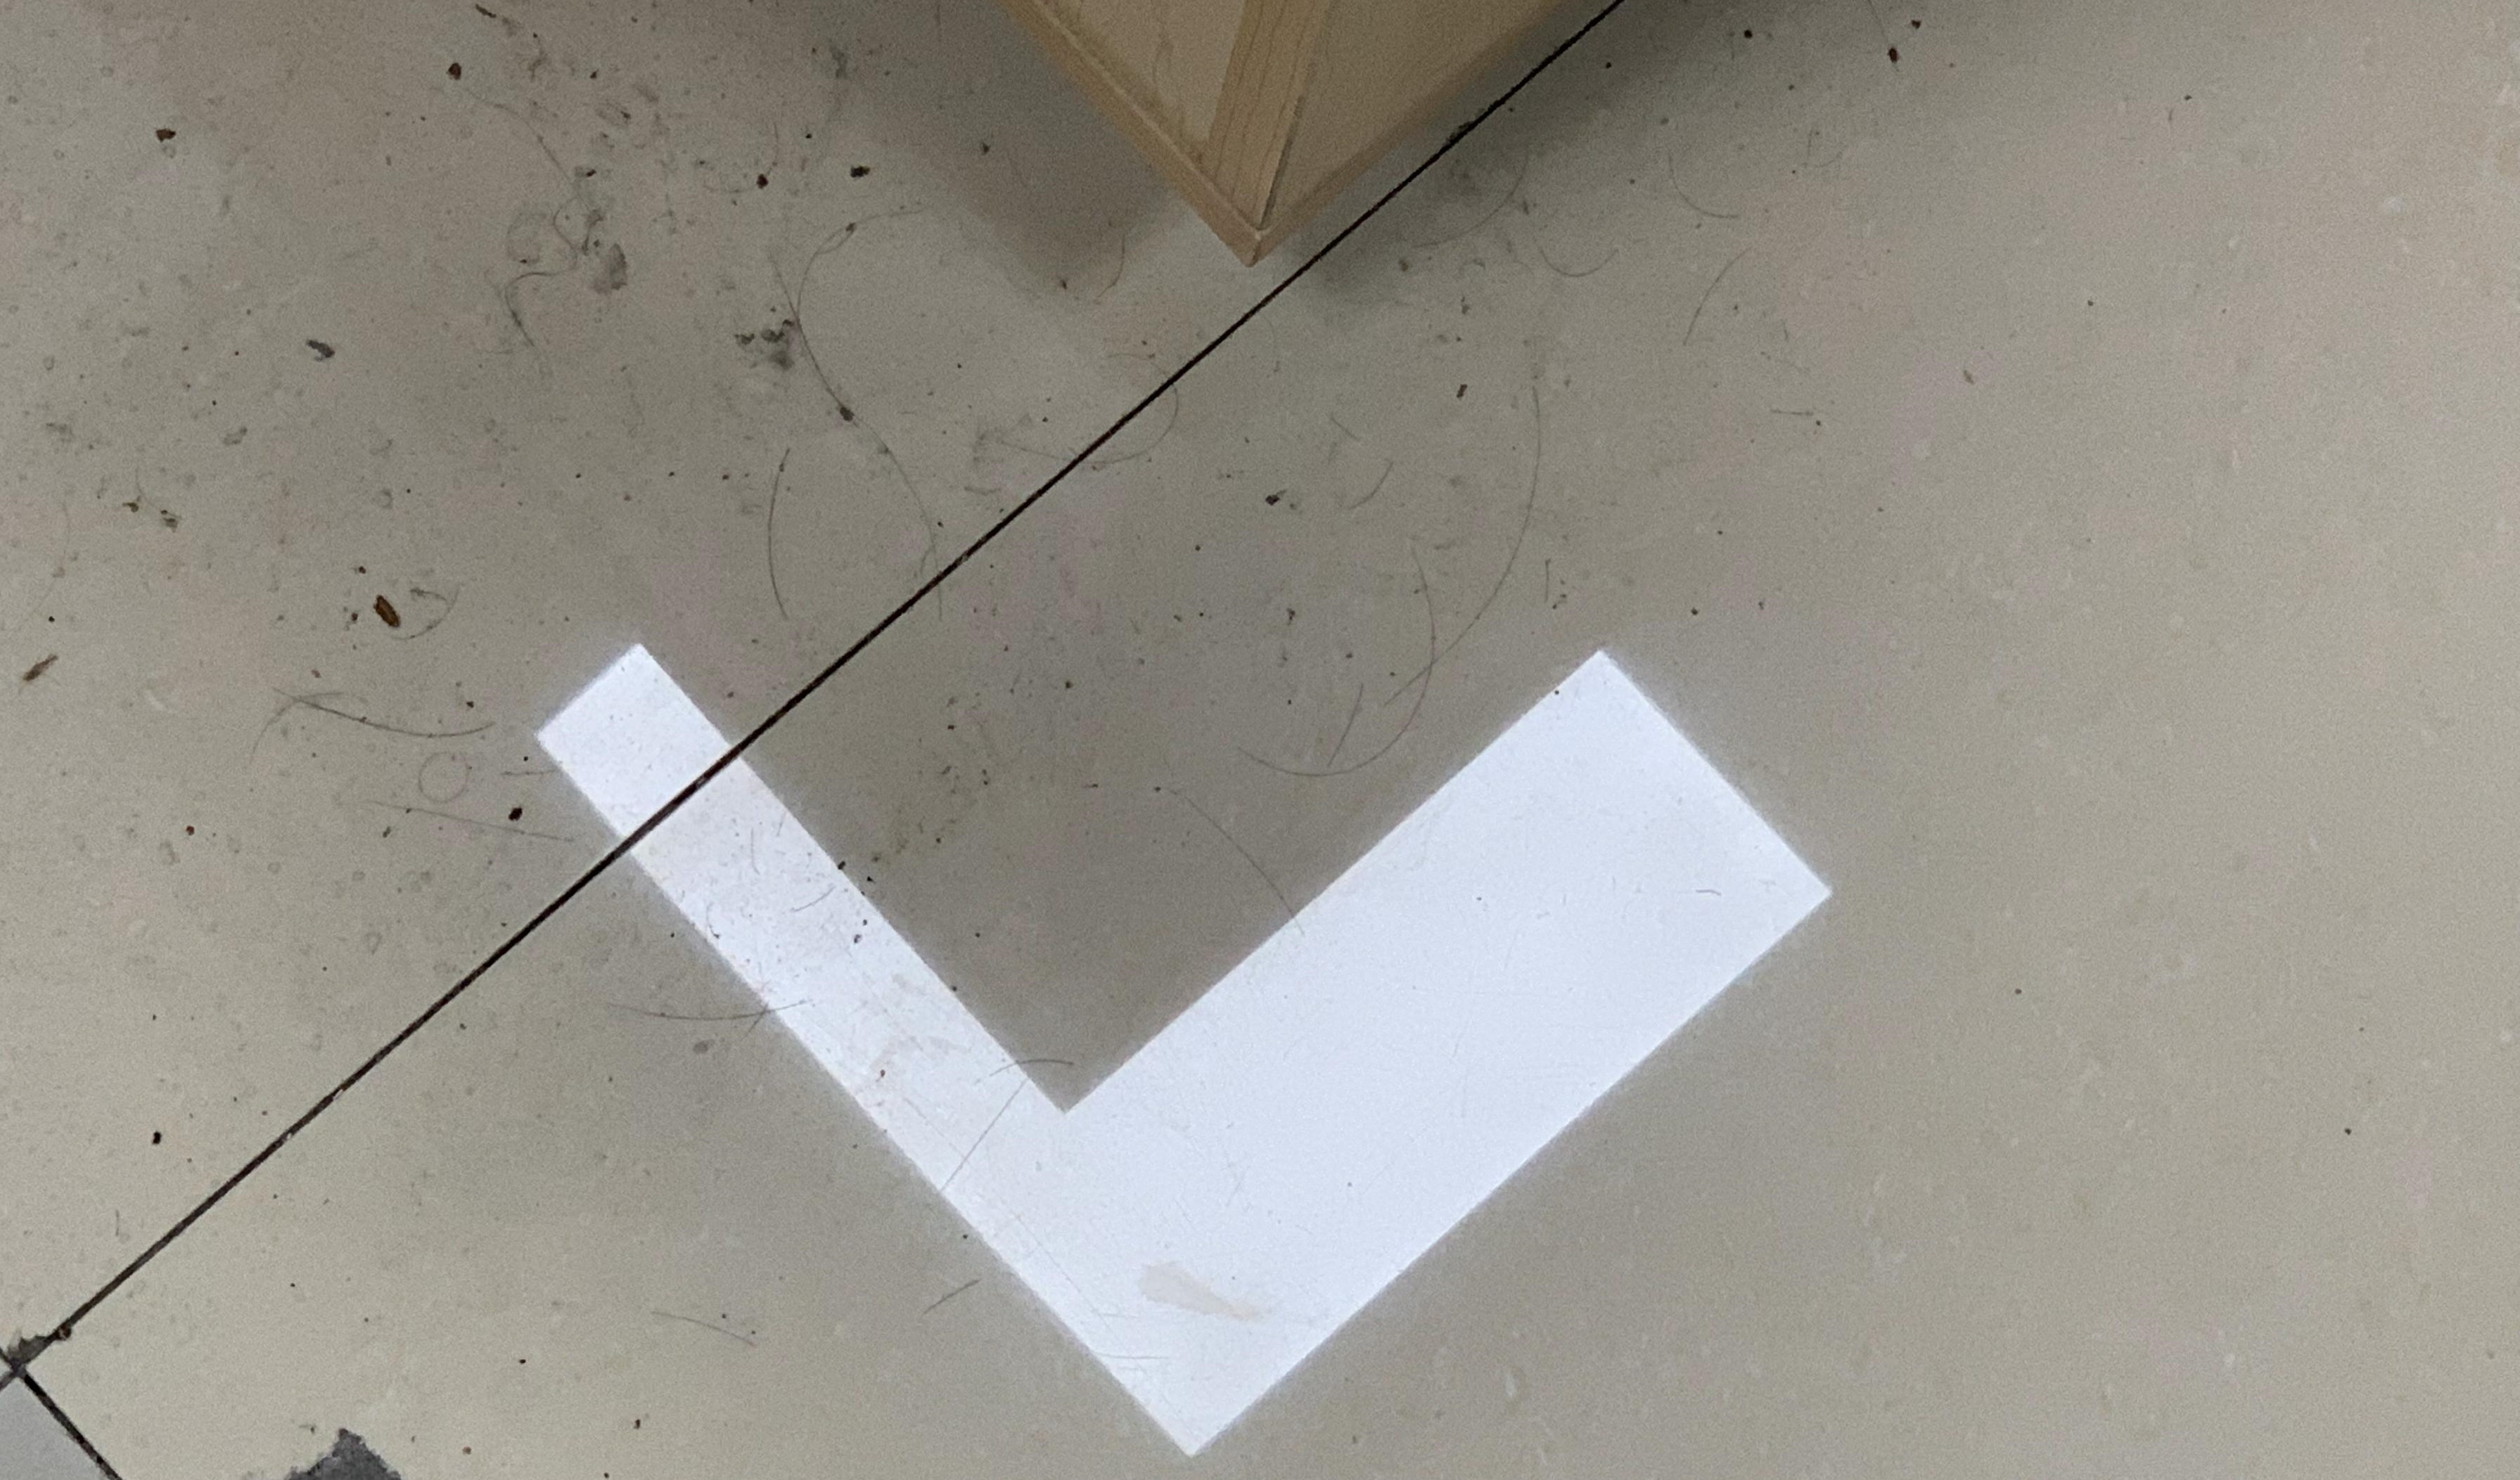reflection: (532, 641, 1833, 1462)
